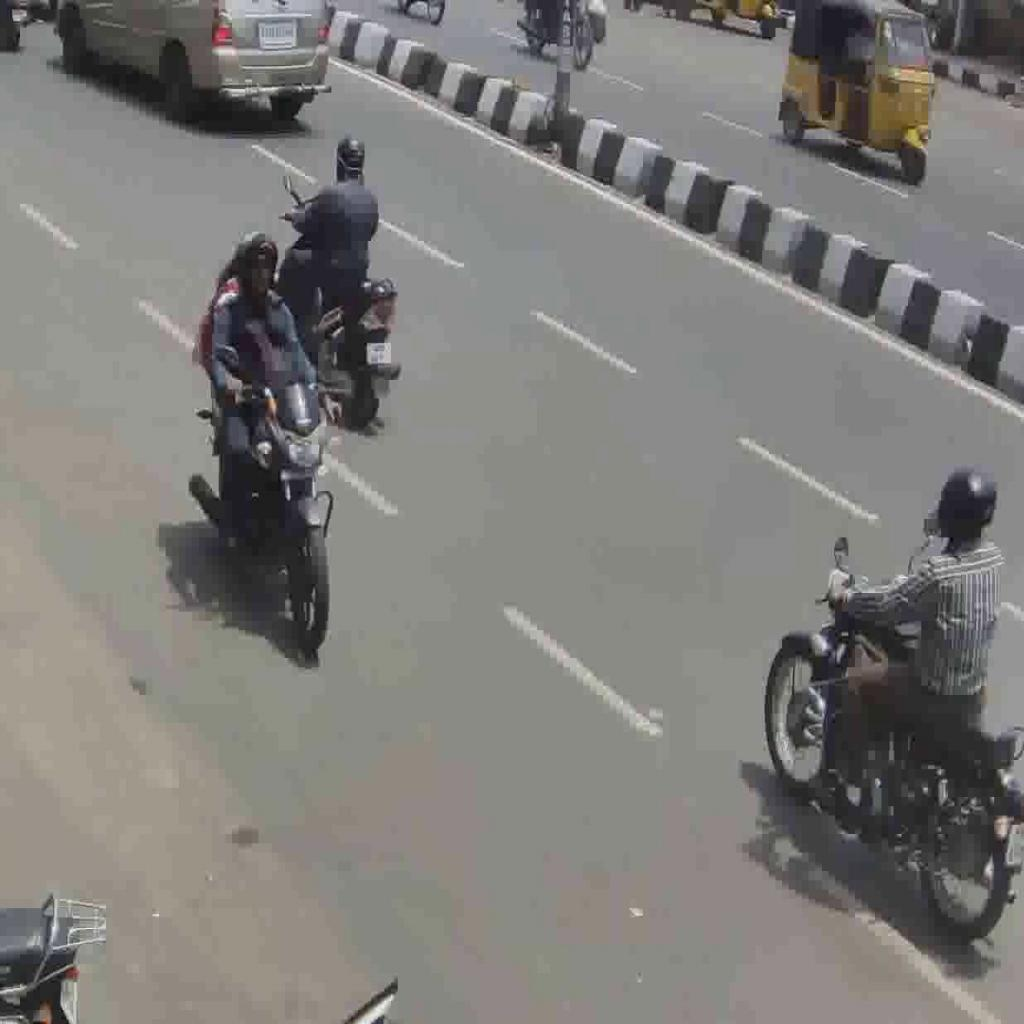bike: (763, 561, 1024, 944), (190, 355, 342, 655), (277, 195, 403, 429)
helmet: (936, 462, 998, 542), (234, 232, 280, 300), (334, 132, 367, 183)
lisc: (280, 464, 325, 481), (366, 342, 392, 365)
rider: (804, 462, 1006, 842), (211, 231, 342, 561), (284, 132, 380, 323)
